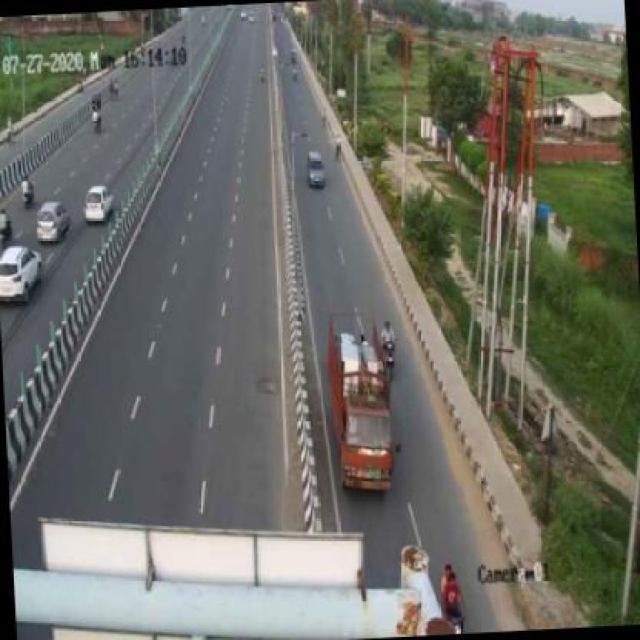car: (1, 242, 44, 306), (34, 200, 72, 245), (300, 148, 332, 194), (85, 186, 112, 225)
